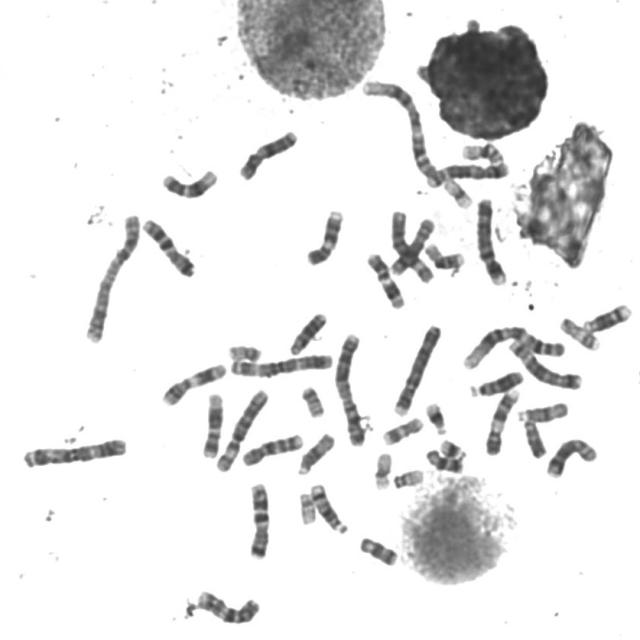A1: (357, 74, 441, 182), (458, 320, 567, 371)
A2: (79, 208, 142, 345), (330, 327, 368, 448)
A3: (17, 432, 129, 470), (225, 348, 335, 379)
B4: (389, 318, 443, 418), (472, 192, 509, 286)
B5: (506, 334, 584, 391), (423, 157, 511, 189)
C10: (191, 585, 262, 626), (237, 428, 305, 468)
C11: (156, 357, 228, 407), (362, 248, 406, 310)
C12: (157, 164, 219, 200), (197, 388, 225, 459)
C6: (212, 384, 270, 474), (386, 208, 437, 282)
C7: (138, 213, 198, 279), (243, 478, 272, 560)
C8: (391, 218, 444, 277), (542, 433, 600, 479)
C9: (481, 384, 521, 456), (301, 204, 346, 267)
D13: (284, 307, 329, 357), (466, 366, 525, 398)
D14: (306, 479, 349, 535), (579, 298, 634, 335)
D15: (292, 428, 337, 477), (512, 397, 570, 423)
E16: (420, 238, 466, 270), (457, 137, 506, 164)
E17: (556, 312, 602, 352), (378, 412, 425, 448)
E18: (355, 531, 400, 568), (422, 445, 465, 474)
F19: (439, 173, 475, 210), (369, 447, 394, 492)
F20: (296, 380, 326, 420), (223, 339, 263, 363)
G21: (421, 398, 450, 436), (436, 434, 468, 461)
G22: (294, 487, 318, 526), (389, 465, 425, 490)
X: (233, 124, 300, 182)
Y: (519, 415, 549, 460)
